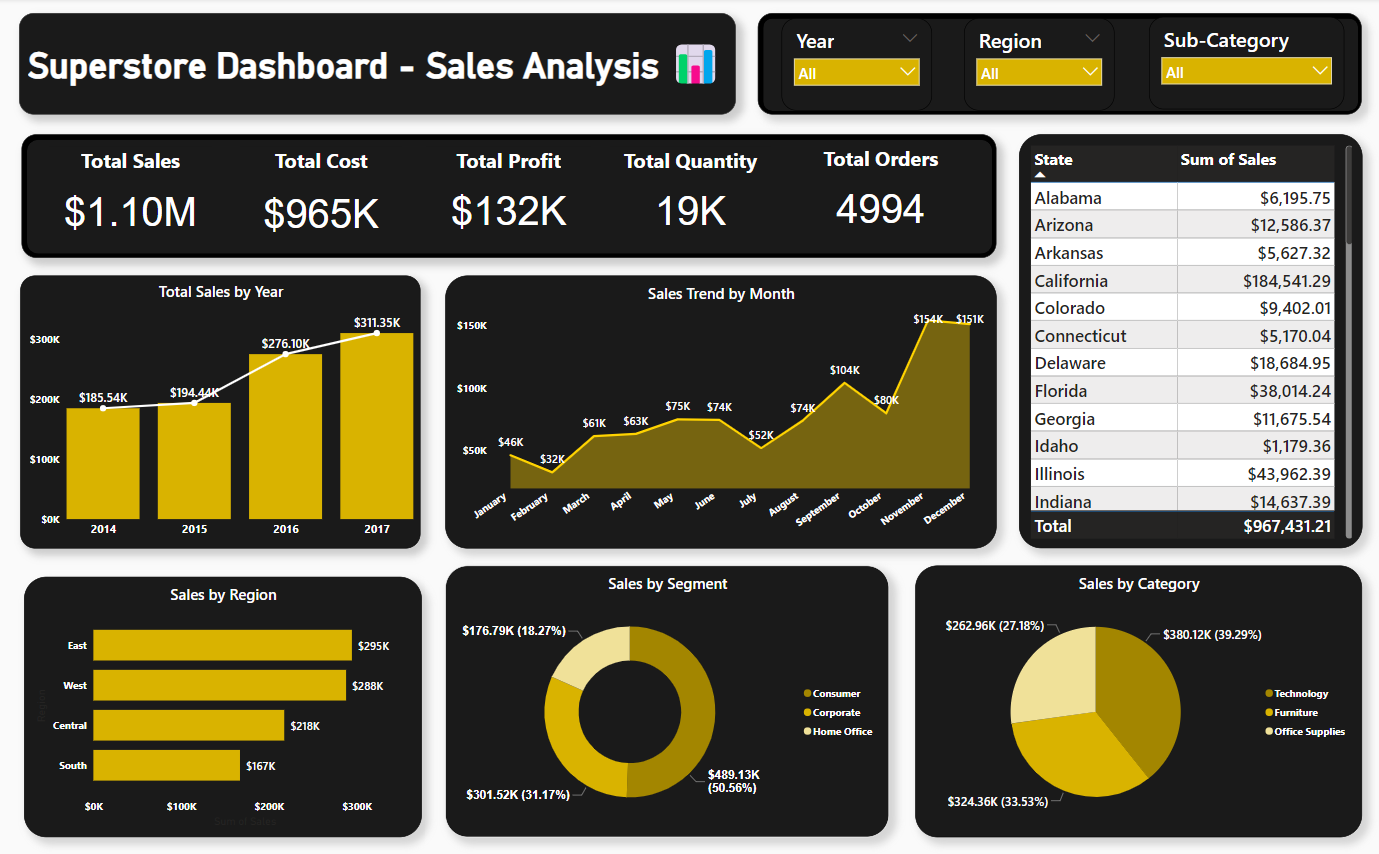

This screenshot's page, from the dashboard's own definition file:
{"tool":"powerbi","page":{"name":"Sales Analysis","canvas":[1850,1150],"ordinal":0},"visuals":[{"type":"shape","box":[30.9,181.8,1305.5,165.5],"z":0},{"type":"card","title":"Total Profit","fields":{"Values":["Sum(Superstore Data.Profit & Loss)"]},"box":[572.7,200,220,129.1],"z":1000},{"type":"card","title":"Total Quantity","fields":{"Values":["Sum(Superstore Data.Quantity)"]},"box":[818.2,200,214.5,129.1],"z":2000},{"type":"lineClusteredColumnComboChart","title":"Total Sales by Year","fields":{"Category":["Superstore Data.Order Date.Variation.Date Hierarchy.Year"],"Y":["Sum(Superstore Data.Sales)"],"Y2":["Sum(Superstore Data.Sales)"]},"box":[29.1,370.9,536.4,365.5],"z":3000},{"type":"clusteredBarChart","title":"Sales by Region","fields":{"Y":["Sum(Superstore Data.Sales)"],"Category":["Superstore Data.Region"]},"box":[32.7,774.5,532.7,349.1],"z":4000},{"type":"areaChart","title":"Sales Trend by Month","fields":{"Category":["Superstore Data.Order Date.Variation.Date Hierarchy.Month"],"Y":["Sum(Superstore Data.Sales)"]},"box":[598.2,370.9,738.2,365.5],"z":5000},{"type":"textbox","box":[27.3,20,960,136.4],"z":6000},{"type":"card","title":"Total Orders","fields":{"Values":["Count(Superstore Data.Order ID)"]},"box":[1067.3,196.4,225.5,130.9],"z":7000},{"type":"shape","box":[1016.4,20,809.1,136.4],"z":8000},{"type":"pieChart","title":"Sales by Category","fields":{"Y":["Sum(Superstore Data.Sales)"],"Category":["Category.Category"]},"box":[1227.3,760,598.2,363.6],"z":9000},{"type":"slicer","fields":{"Values":["Superstore Data.Region"]},"box":[1292.7,27.3,201.8,123.6],"z":10000},{"type":"card","title":"Total Cost","fields":{"Values":["Sum(Superstore Data.Cost Price)"]},"box":[323.6,200,216.4,136.4],"z":11000},{"type":"donutChart","title":"Sales by Segment","fields":{"Y":["Sum(Superstore Data.Sales)"],"Category":["Superstore Data.Segment"]},"box":[598.2,760,594.5,363.6],"z":12000},{"type":"slicer","fields":{"Values":["Superstore Data.Order Date.Variation.Date Hierarchy.Year"]},"box":[1047.3,27.3,201.8,123.6],"z":13000},{"type":"slicer","fields":{"Values":["Superstore Data.Sub-Category"]},"box":[1540,25.5,261.8,123.6],"z":14000},{"type":"card","title":"Total Sales","fields":{"Values":["Sum(Superstore Data.Sales)"]},"box":[67.3,200,218.2,132.7],"z":15000},{"type":"tableEx","title":"Sales Trend by Month","fields":{"Values":["Superstore Data.State","Sum(Superstore Data.Sales)"]},"box":[1365.5,181.8,460,554.5],"z":16000}]}

Visuals, with their boxes in screenshot pixels (x1, y1, x2, y2), scaled from the page's 1850x1150 canvas onto the 1379x854 screenshot:
shape: 23, 135, 996, 258
"Total Profit" card: 427, 149, 591, 244
"Total Quantity" card: 610, 149, 770, 244
"Total Sales by Year" lineClusteredColumnComboChart: 22, 275, 422, 547
"Sales by Region" clusteredBarChart: 24, 575, 421, 834
"Sales Trend by Month" areaChart: 446, 275, 996, 547
textbox: 20, 15, 736, 116
"Total Orders" card: 796, 146, 964, 243
shape: 758, 15, 1361, 116
"Sales by Category" pieChart: 915, 564, 1361, 834
slicer - Superstore Data.Region: 964, 20, 1114, 112
"Total Cost" card: 241, 149, 403, 250
"Sales by Segment" donutChart: 446, 564, 889, 834
slicer - Superstore Data.Order Date.Variation.Date Hierarchy.Year: 781, 20, 931, 112
slicer - Superstore Data.Sub-Category: 1148, 19, 1343, 111
"Total Sales" card: 50, 149, 213, 247
"Sales Trend by Month" tableEx: 1018, 135, 1361, 547
